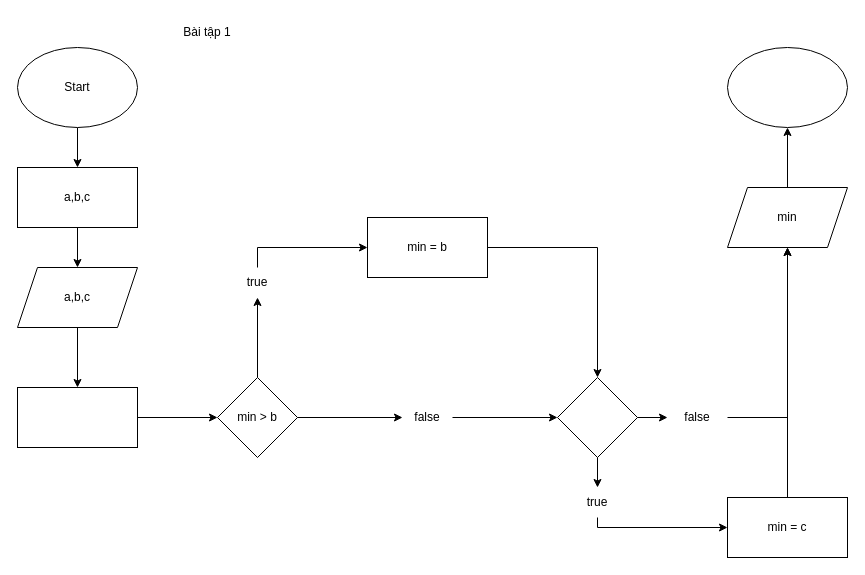
This 865x575 diagram has some shape labels left out. The centre of each missing label's shape, as x and y in pixels:
End: [787,87]
min = a: [77,417]
min > c: [597,417]
